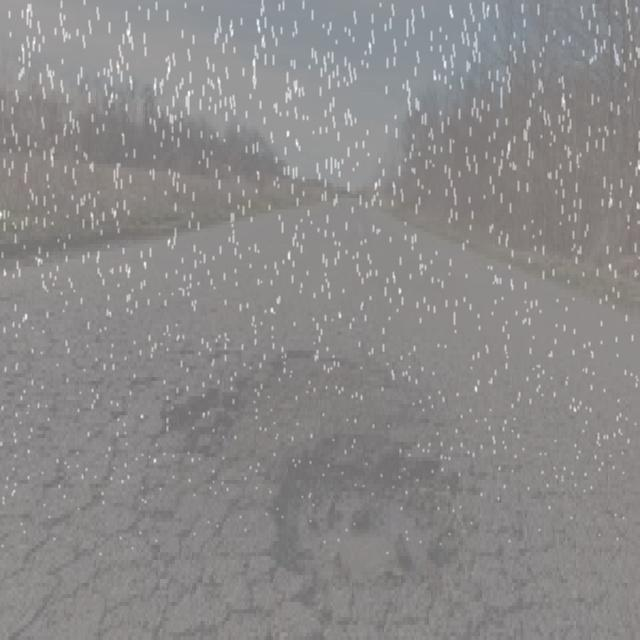Pothole: (145, 332, 536, 640)
